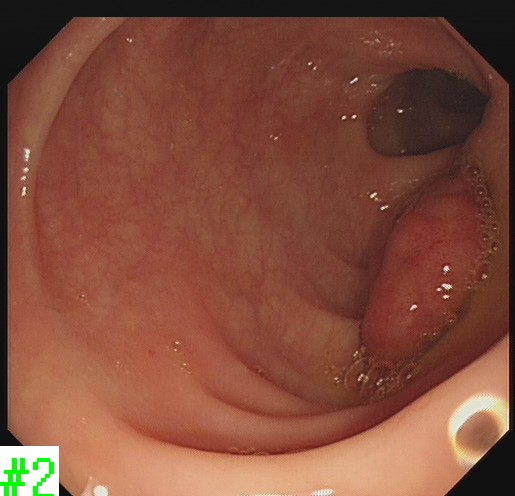adenoma: (358, 172, 496, 373)
